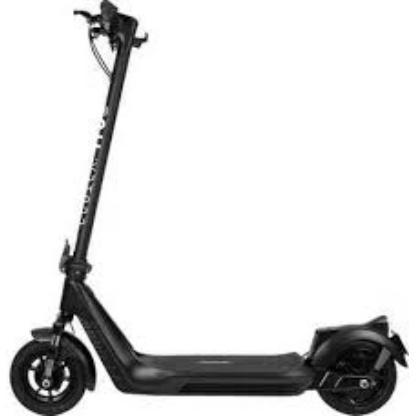bike: (8, 1, 414, 416)
